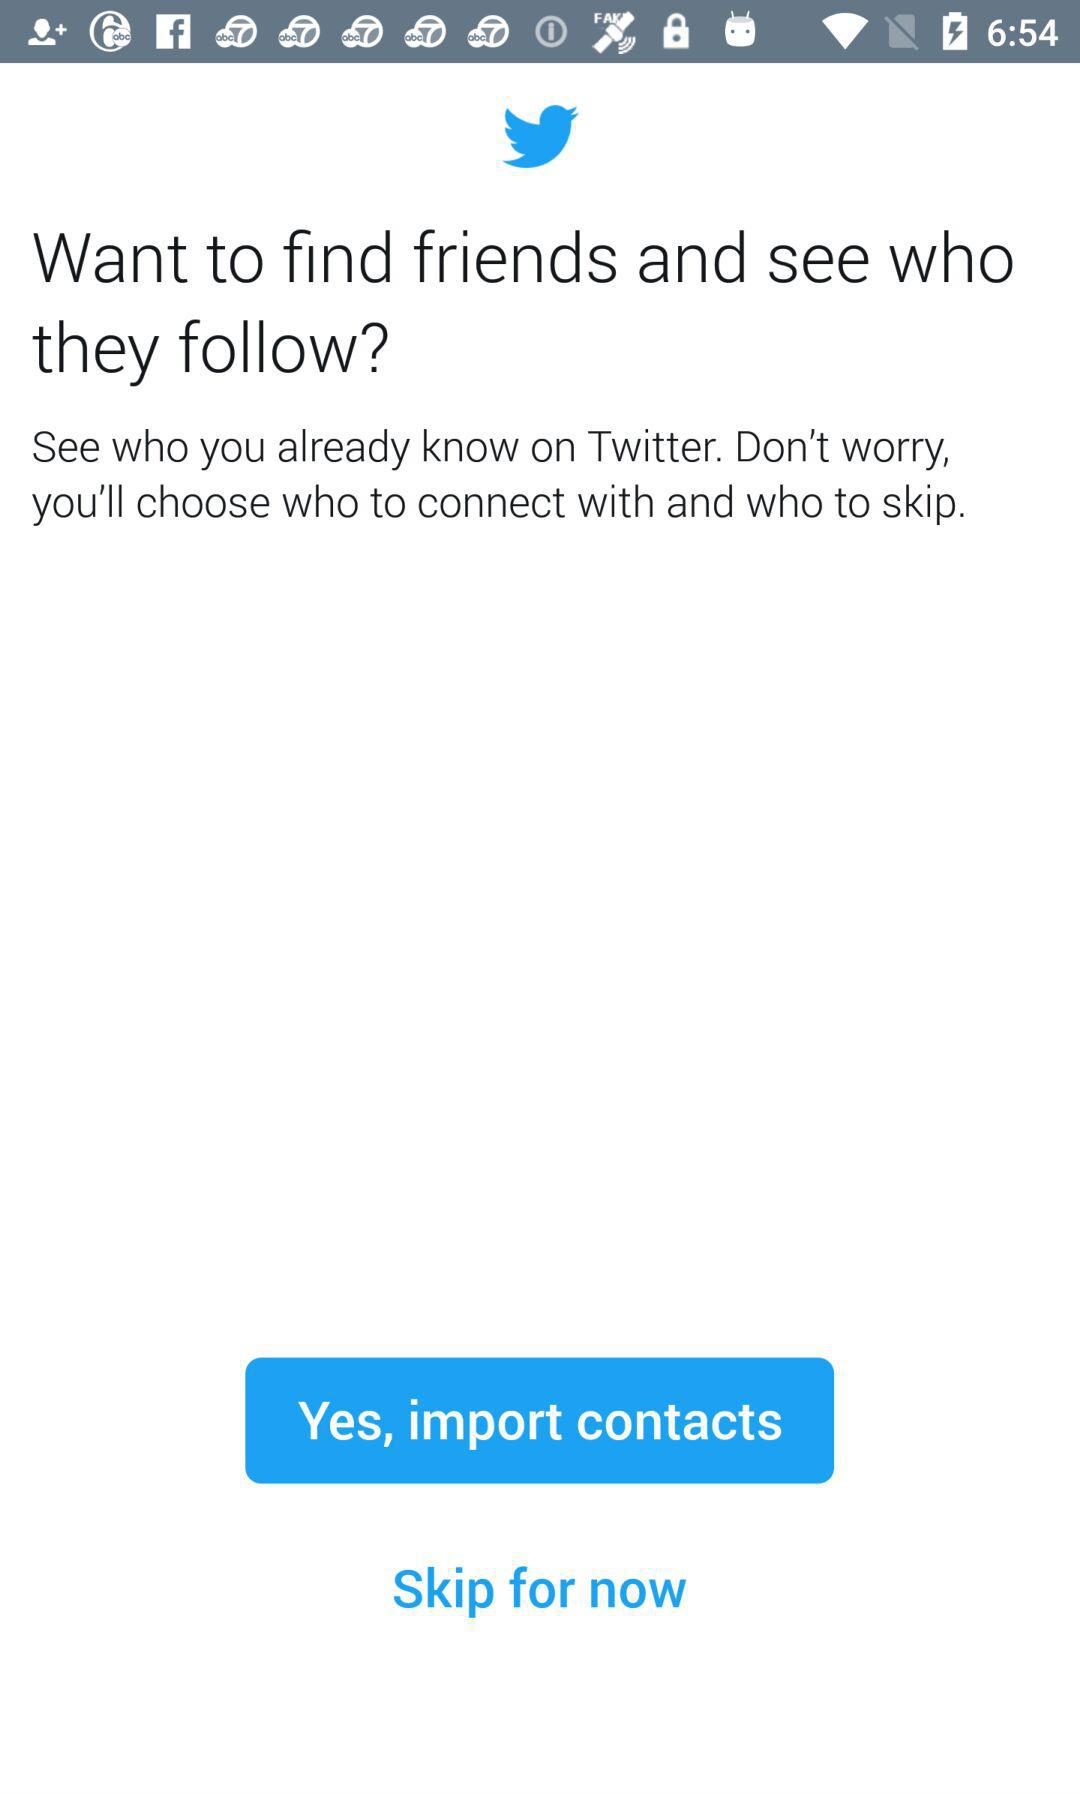Icon: (502, 104, 580, 170)
Text: (32, 228, 1013, 390), (29, 427, 966, 528), (393, 1565, 688, 1620)
TextButton: (245, 1357, 835, 1485)
UpperTaskBar: (1, 1, 1080, 64)
